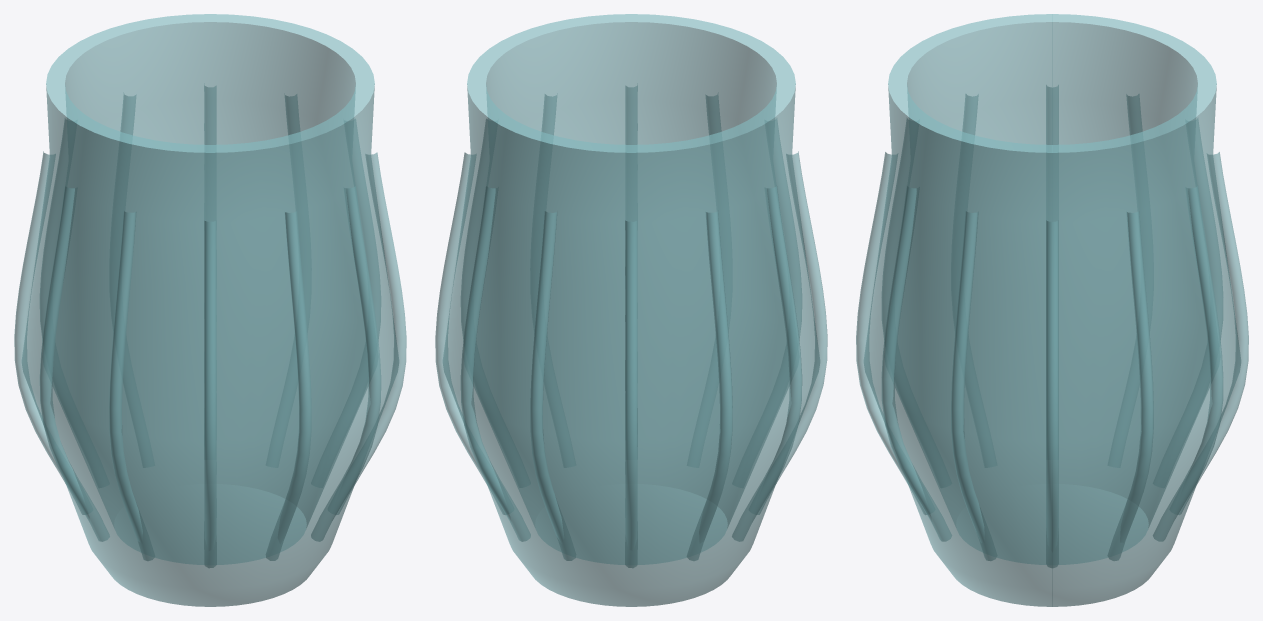
Rendered from glassblowing-studio-and-gallery-fluted-vase-53ed7e98__29628.glb.
3 views of the same model, side by side, from view 1: azimuth 30°, elevation 25°; view 2: azimuth 150°, elevation 25°; view 3: azimuth 270°, elevation 25° (orthographic).
Parts seen in each view (by area): view 1: fluted-vase; view 2: fluted-vase; view 3: fluted-vase.
Boxes of the visible parts, box(x1,y1,x2,y2) form: fluted-vase: box(14, 14, 406, 606); fluted-vase: box(435, 14, 827, 606); fluted-vase: box(856, 14, 1248, 606).
Bounding box in the file's own units: 0.4158 × 0.56 × 0.4158.
